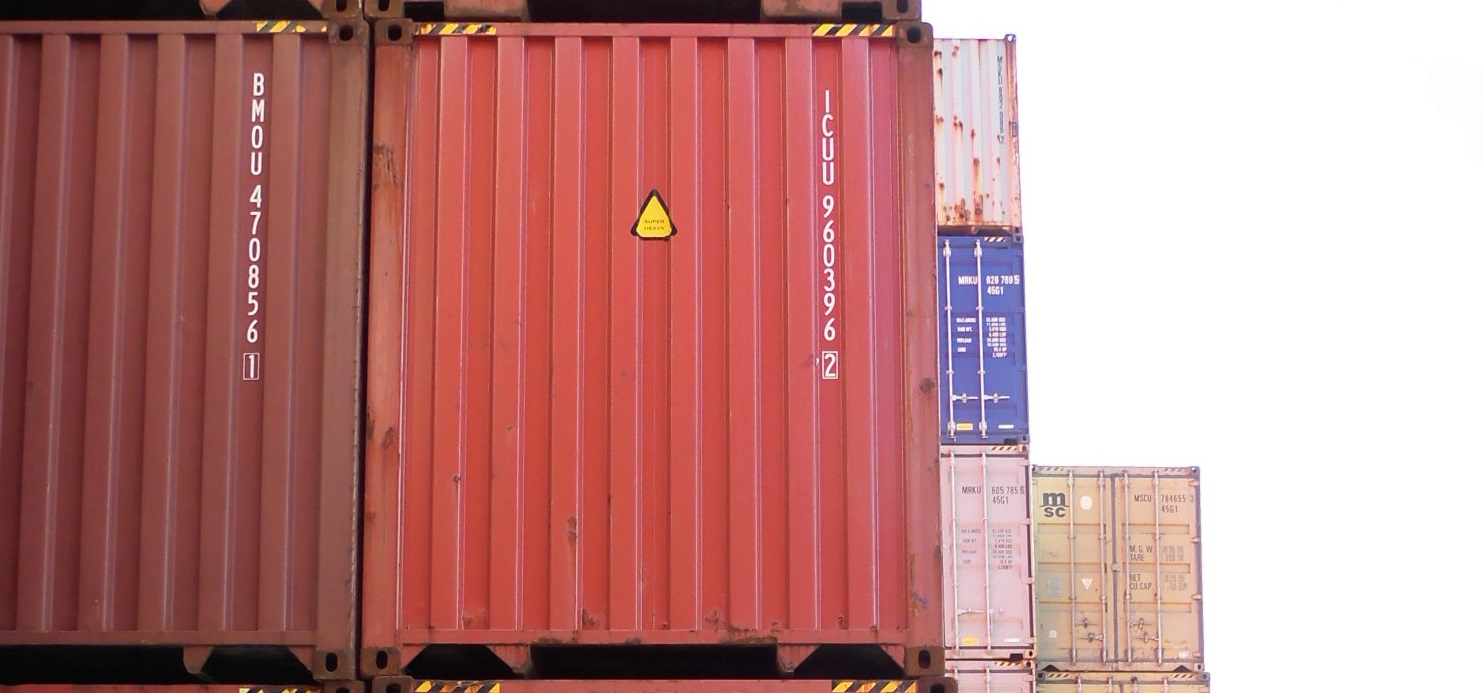container_door: (1034, 463, 1207, 671), (934, 450, 1030, 663), (932, 234, 1028, 446)
container_no_door: (371, 19, 946, 673), (1, 9, 363, 677), (936, 29, 1023, 221)
